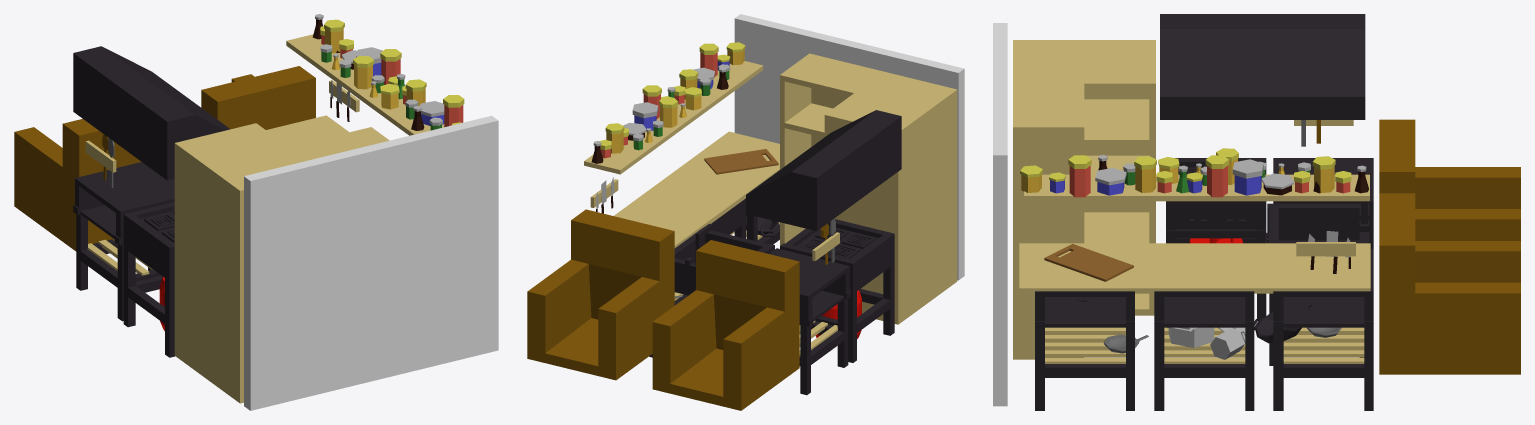
Rendered from TruckKitchenInterior.fbx.
3 renders of one model, left to right at view 1: azimuth 30°, elevation 25°; view 2: azimuth 150°, elevation 25°; view 3: azimuth 270°, elevation 25°, orthographic. The views are drawn at different scales.
Parts seen in each view (by area): view 1: BackWall, Cabinet, Chairs, Fume Hood, CounterDrawer.001, ShelfJars, 4BurnerStove, Shelf, Counter, Storage Slats.001, Utensil Rack; view 2: Chairs, Cabinet, BackWall, Fume Hood, Counter, 4BurnerStove, ShelfJars, CounterDrawer.001, Shelf, Sink, CounterDrawer.002, Cuttingboard (+1 smaller); view 3: Chairs, Cabinet, Fume Hood, CounterDrawer.002, Counter, ShelfJars, Storage Slats, BackWall, 4BurnerStove, Sink, Shelf, Pot.001 (+3 smaller).
Boxes of the visible parts, x1,y1,x2,y2 form: BackWall: [244, 115, 498, 410]; Cabinet: [174, 123, 389, 403]; Chairs: [14, 66, 315, 251]; Fume Hood: [73, 46, 230, 180]; CounterDrawer.001: [73, 162, 174, 321]; ShelfJars: [312, 14, 464, 130]; 4BurnerStove: [123, 202, 174, 357]; Shelf: [286, 34, 444, 135]; Counter: [266, 115, 348, 146]; Storage Slats.001: [87, 238, 155, 275]; Utensil Rack: [85, 140, 116, 172]; Chairs: [527, 209, 799, 410]; Cabinet: [780, 53, 957, 324]; BackWall: [734, 14, 964, 280]; Fume Hood: [746, 110, 901, 230]; Counter: [614, 131, 779, 247]; 4BurnerStove: [780, 219, 894, 362]; ShelfJars: [591, 42, 745, 163]; CounterDrawer.001: [769, 248, 850, 395]; Shelf: [584, 61, 763, 174]; Sink: [674, 223, 774, 295]; CounterDrawer.002: [649, 198, 779, 357]; Cuttingboard: [704, 149, 778, 174]; Chairs: [1379, 119, 1520, 374]; Cabinet: [1013, 40, 1155, 359]; Fume Hood: [1160, 14, 1365, 119]; CounterDrawer.002: [1035, 248, 1373, 410]; Counter: [1019, 243, 1370, 293]; ShelfJars: [1020, 148, 1368, 197]; Storage Slats: [1045, 327, 1364, 363]; BackWall: [993, 23, 1007, 406]; 4BurnerStove: [1166, 158, 1266, 318]; Sink: [1265, 201, 1369, 365]; Shelf: [1024, 174, 1369, 201]; Pot.001: [1078, 300, 1341, 359].
Bounding box in the file's own units: 460 × 408 × 746.
